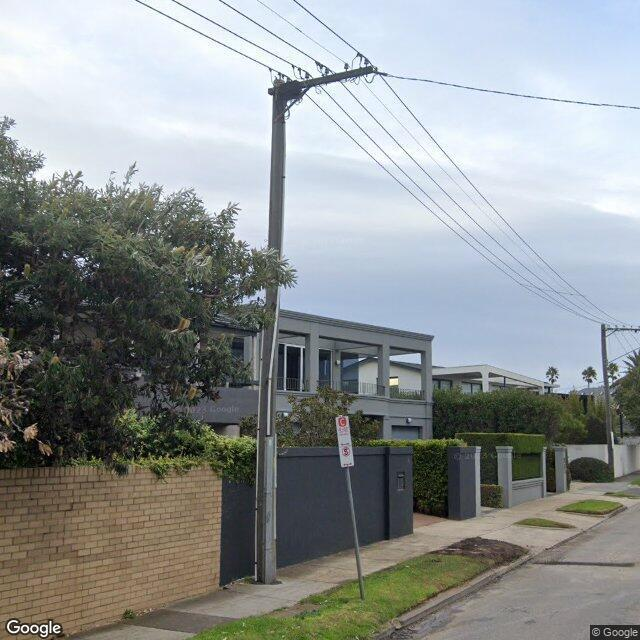crossarm: (284, 66, 374, 88), (606, 327, 640, 331)
timber-pole: (256, 79, 286, 584), (601, 324, 614, 481)
